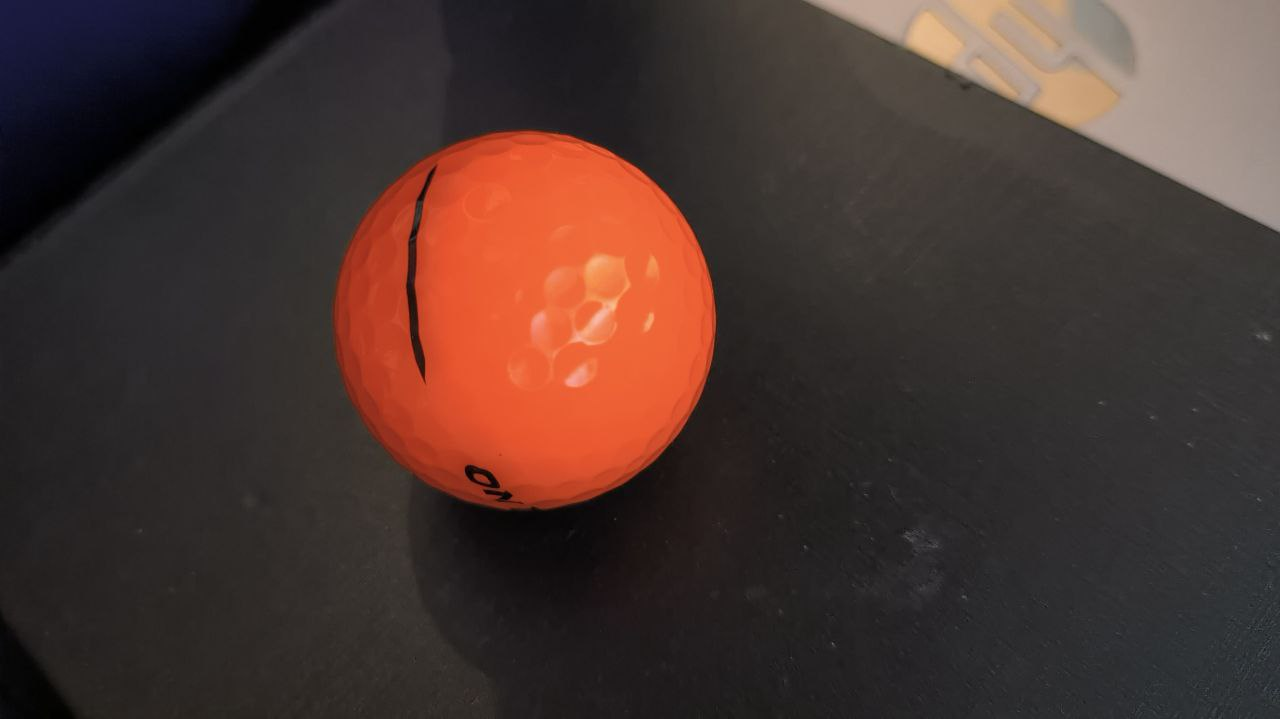orange_ball: (332, 132, 716, 509)
